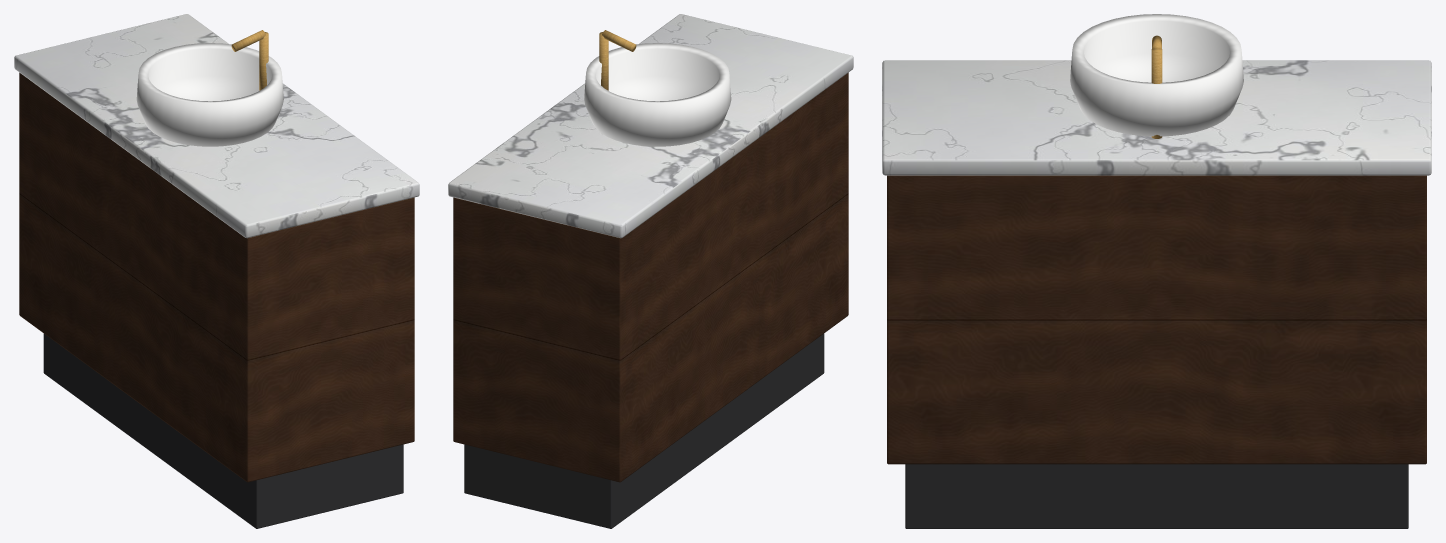
File: ensuite_vanity.glb
3 renders of one model, left to right at view 1: azimuth 30°, elevation 25°; view 2: azimuth 150°, elevation 25°; view 3: azimuth 270°, elevation 25°, orthographic. The views are drawn at different scales.
Parts seen in each view (by area): view 1: ensuite_vanity; view 2: ensuite_vanity; view 3: ensuite_vanity.
Part boxes in pixels (bbox=[...]): ensuite_vanity: bbox=[14, 14, 419, 528]; ensuite_vanity: bbox=[448, 14, 853, 528]; ensuite_vanity: bbox=[882, 14, 1431, 528].
Size of the model in its own units: 0.52 by 1.12 by 1.2.
Materials: 5 (3 with a texture image).
